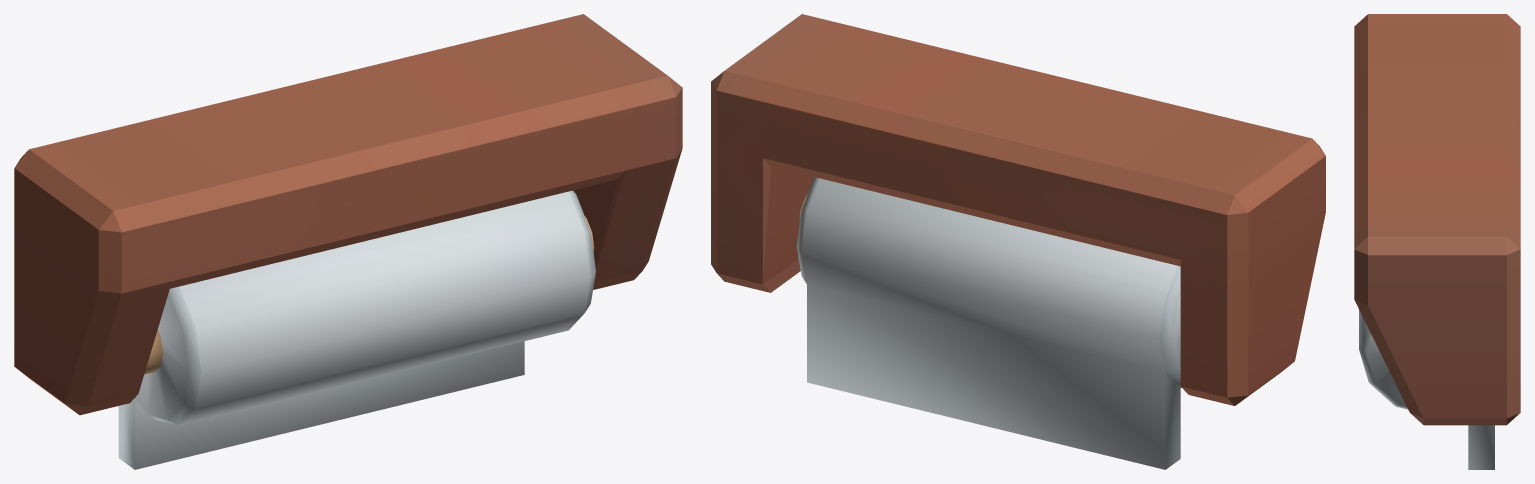
File: kkr.shelf_papertowel.glb
3 views of the same model, side by side, from view 1: azimuth 30°, elevation 25°; view 2: azimuth 150°, elevation 25°; view 3: azimuth 270°, elevation 25° (orthographic). The views are drawn at different scales.
Parts seen in each view (by area): view 1: shelf_papertowel; view 2: shelf_papertowel; view 3: shelf_papertowel.
Part boxes in pixels (x1,y1,x2,y2): shelf_papertowel: (14, 14, 682, 469); shelf_papertowel: (711, 14, 1325, 469); shelf_papertowel: (1354, 14, 1520, 469).
Size of the model in its own units: 1.49 by 0.7895 by 0.447.
1 material, 1 textured.
